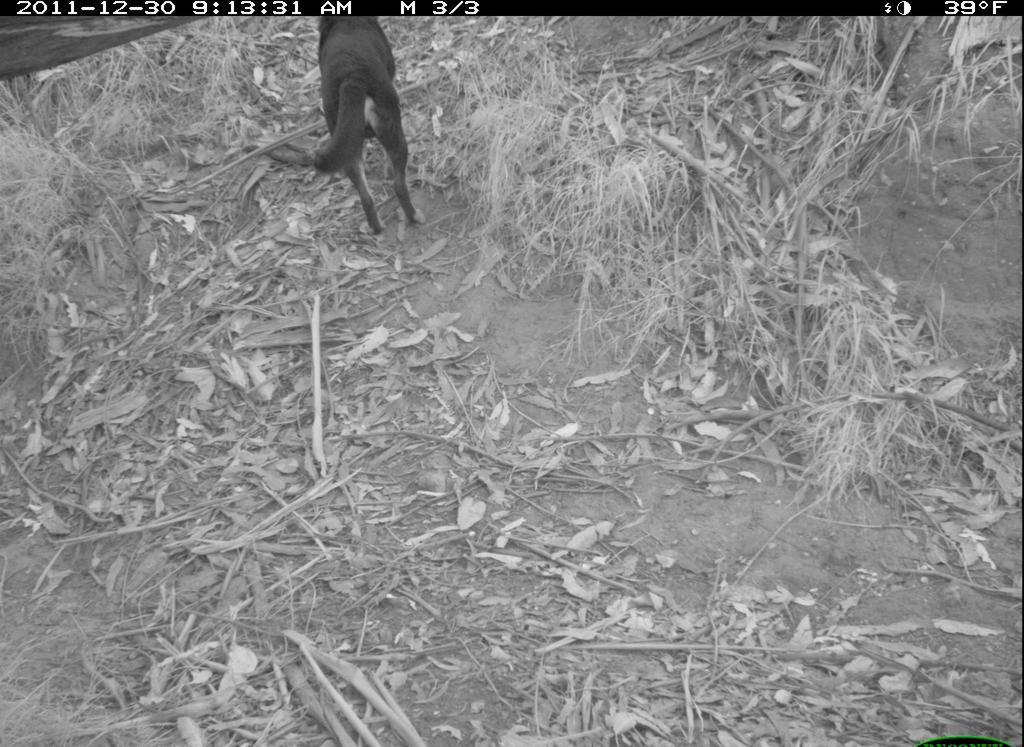dog: (283, 9, 451, 247)
